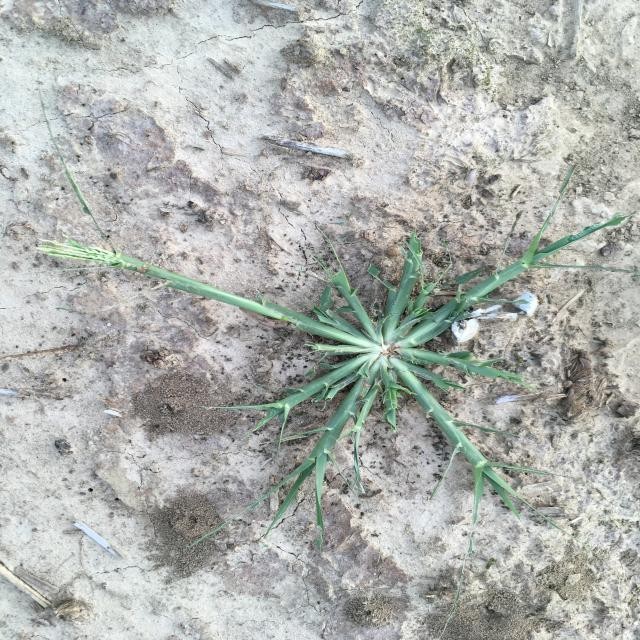Goosegrass: (34, 165, 635, 552)
